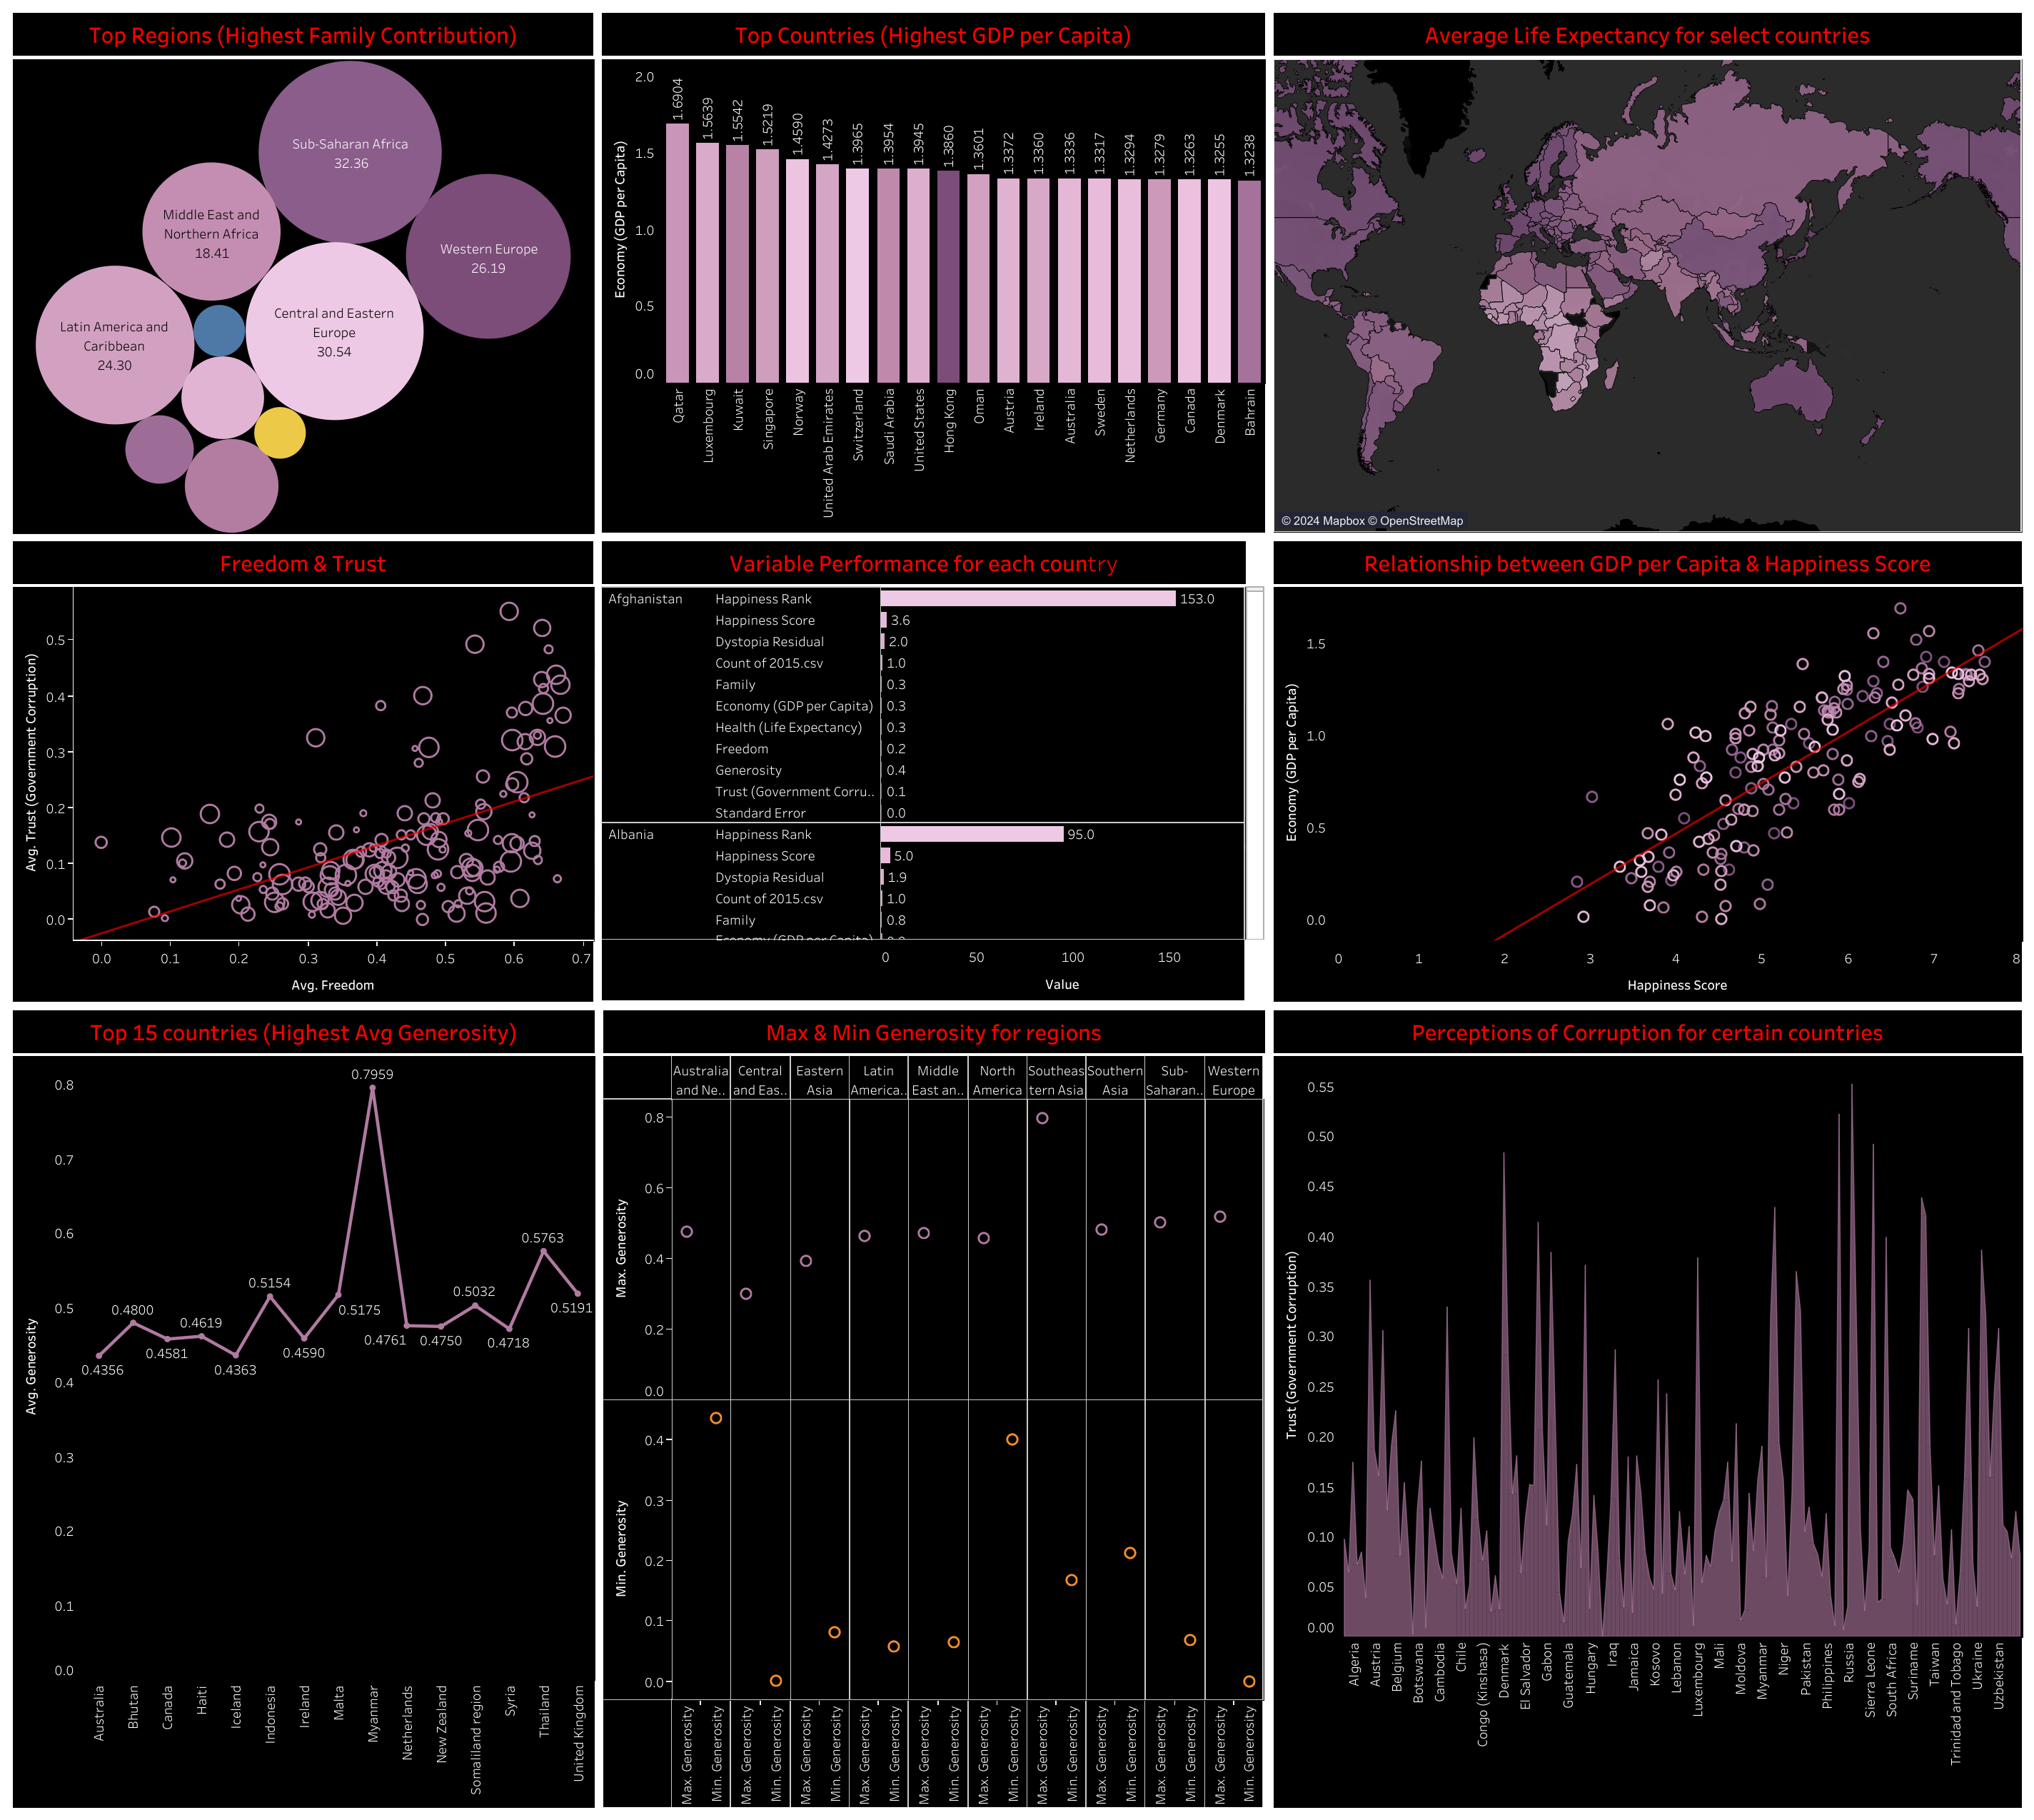

Layout of this report page (visuals, bound fields, positions):
{"tool":"tableau","page":{"name":"Dashboard 1","canvas":[1900,1700],"ordinal":0},"visuals":[{"type":"worksheet","title":"Highest Family Contribution","mark":"Circle","box":[8,8,549.9,492.6]},{"type":"worksheet","title":"Top Countries (Highest GDP Per Capita)","mark":"Automatic","rows":["Economy (GDP per Capita)"],"cols":["Country"],"box":[557.9,8,626.8,492.6]},{"type":"worksheet","title":"Avg Health Life Expectancy","mark":"Automatic","box":[1184.7,8,707.3,492.6]},{"type":"worksheet","title":"Freedom & Trust","mark":"Automatic","rows":["Trust (Government Corruption)"],"cols":["Freedom"],"box":[8,500.6,549.9,438]},{"type":"worksheet","title":"Variable Performance of each country","mark":"Automatic","rows":["Country"],"box":[557.9,500.6,626.8,438]},{"type":"worksheet","title":"Relation between GDP & Happiness Score","mark":"Automatic","rows":["Economy (GDP per Capita)"],"cols":["Happiness Score"],"box":[1184.7,500.6,707.3,438]},{"type":"worksheet","title":"Highest Avg Generosity","mark":"Line","rows":["Generosity"],"cols":["Country"],"box":[8,938.6,550.6,753.4]},{"type":"worksheet","title":"Min & Max Generosity","mark":"Shape","rows":["Generosity","Generosity"],"cols":["Region"],"box":[558.6,938.6,626.1,753.4]},{"type":"worksheet","title":"Perceptions of Corruption","mark":"Area","rows":["Trust (Government Corruption)"],"cols":["Country"],"box":[1184.7,938.6,707.3,753.4]}]}

Visuals, with their boxes in screenshot pixels (x1, y1, x2, y2), scaled from the page's 1900x1700 canvas onto the 2034x1820 screenshot:
"Highest Family Contribution" worksheet (Circle marks): BBox(9, 9, 598, 536)
"Top Countries (Highest GDP Per Capita)" worksheet: BBox(598, 9, 1268, 536)
"Avg Health Life Expectancy" worksheet: BBox(1268, 9, 2025, 536)
"Freedom & Trust" worksheet: BBox(9, 536, 598, 1005)
"Variable Performance of each country" worksheet: BBox(598, 536, 1268, 1005)
"Relation between GDP & Happiness Score" worksheet: BBox(1268, 536, 2025, 1005)
"Highest Avg Generosity" worksheet (Line marks): BBox(9, 1005, 598, 1811)
"Min & Max Generosity" worksheet (Shape marks): BBox(598, 1005, 1268, 1811)
"Perceptions of Corruption" worksheet (Area marks): BBox(1268, 1005, 2025, 1811)
